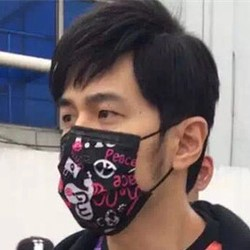mask: (51, 121, 172, 237)
